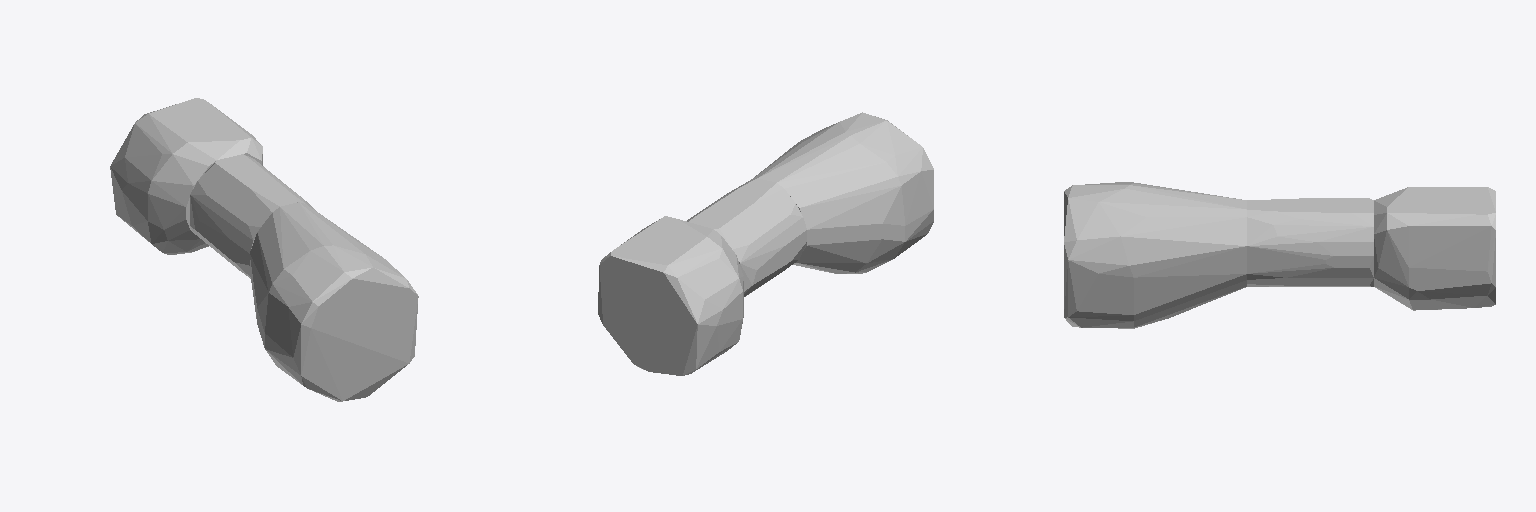
Rendered from HeavyDuty_Flashlight_collision.obj.
3 views of the same model, side by side, from view 1: azimuth 30°, elevation 25°; view 2: azimuth 150°, elevation 25°; view 3: azimuth 270°, elevation 25° (orthographic).
Visible parts, largest first — view 1: convex_0, convex_1, convex_2; view 2: convex_0, convex_1, convex_2; view 3: convex_0, convex_1, convex_2.
Part boxes in pixels (left/top/right/bottom): convex_0: left=250, top=202, right=418, bottom=401; convex_1: left=110, top=98, right=262, bottom=254; convex_2: left=190, top=154, right=315, bottom=278; convex_0: left=751, top=112, right=933, bottom=273; convex_1: left=598, top=216, right=743, bottom=375; convex_2: left=687, top=178, right=806, bottom=296; convex_0: left=1064, top=182, right=1246, bottom=328; convex_1: left=1374, top=187, right=1495, bottom=310; convex_2: left=1247, top=198, right=1373, bottom=286.
Bounding box in the file's own units: 0.08 × 0.08 × 0.2329.